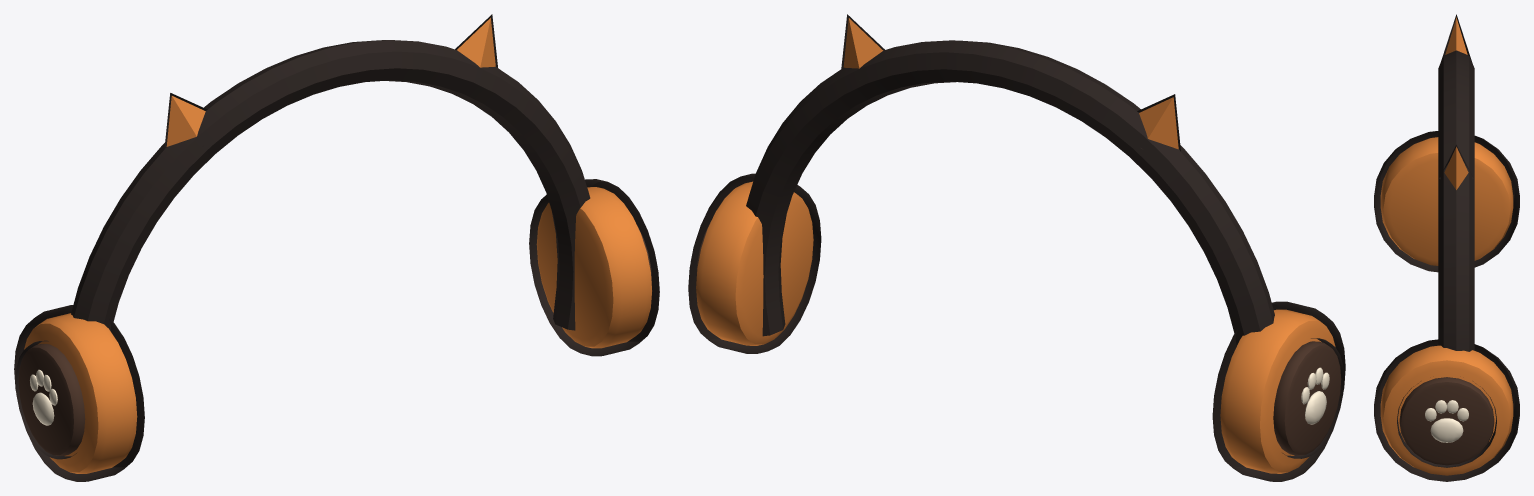
File: hat_headphones.fbx
3 views of the same model, side by side, from view 1: azimuth 30°, elevation 25°; view 2: azimuth 150°, elevation 25°; view 3: azimuth 270°, elevation 25° (orthographic). The views are drawn at different scales.
Parts seen in each view (by area): view 1: hat_headphones_Outline, hat_headphones_C_E8873A, hat_headphones_C_4A3327, hat_headphones_C_FFF1D8; view 2: hat_headphones_Outline, hat_headphones_C_E8873A, hat_headphones_C_4A3327, hat_headphones_C_FFF1D8; view 3: hat_headphones_C_E8873A, hat_headphones_Outline, hat_headphones_C_4A3327, hat_headphones_C_FFF1D8.
Boxes of the visible parts, x1,y1,x2,y2 form: hat_headphones_Outline: (14,14,659,481); hat_headphones_C_E8873A: (24,18,651,473); hat_headphones_C_4A3327: (18,225,651,455); hat_headphones_C_FFF1D8: (30,369,57,425); hat_headphones_Outline: (688,14,1345,481); hat_headphones_C_E8873A: (696,18,1335,473); hat_headphones_C_4A3327: (696,221,1341,455); hat_headphones_C_FFF1D8: (1301,367,1329,424); hat_headphones_C_E8873A: (1380,17,1513,475); hat_headphones_Outline: (1374,14,1519,481); hat_headphones_C_4A3327: (1399,377,1494,465); hat_headphones_C_FFF1D8: (1425,400,1468,442).
Size of the model in its own units: 1.21 by 0.6921 by 0.3075.
